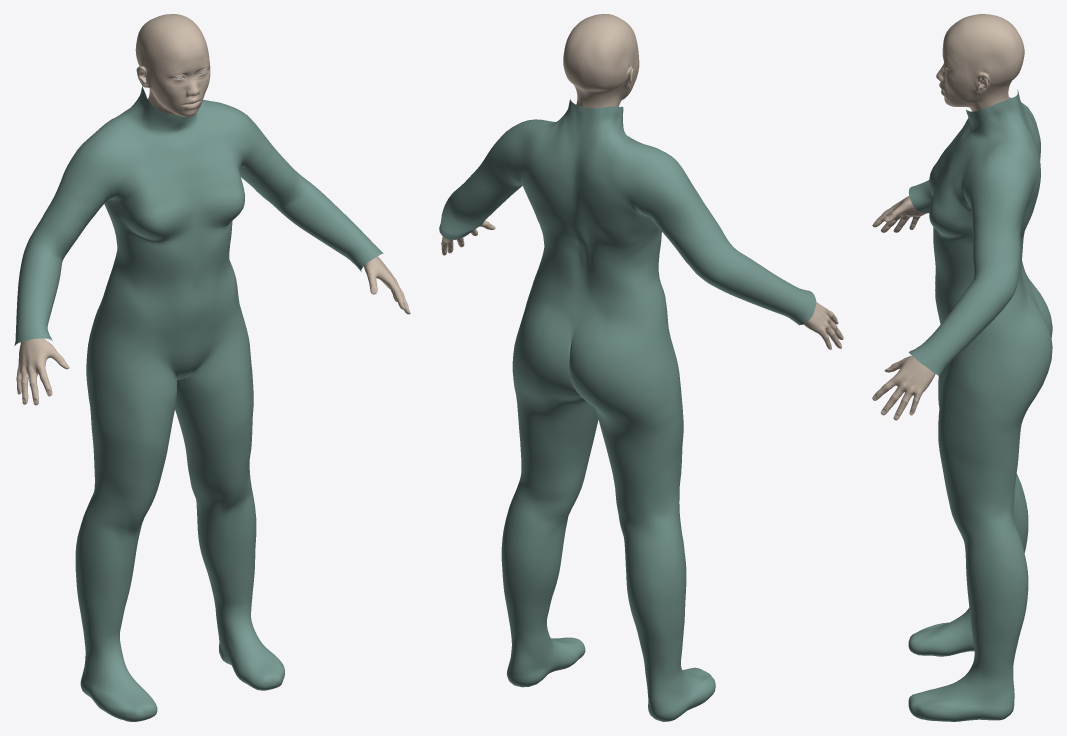
File: female-ordinary.glb
3 renders of one model, left to right at view 1: azimuth 30°, elevation 25°; view 2: azimuth 150°, elevation 25°; view 3: azimuth 270°, elevation 25°, orthographic. The views are drawn at different scales.
Visible parts, largest first — view 1: helper-tights, body; view 2: helper-tights, body; view 3: helper-tights, body.
Boxes of the visible parts, x1,y1,x2,y2 form: helper-tights: [14, 86, 383, 721]; body: [16, 14, 410, 405]; helper-tights: [439, 99, 816, 721]; body: [441, 14, 843, 349]; helper-tights: [908, 89, 1052, 721]; body: [872, 14, 1024, 420].
Bounding box in the file's own units: 1.07 × 1.76 × 0.4316.
